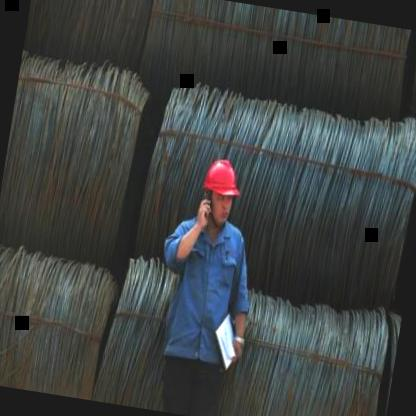helmet: (192, 150, 246, 233)
